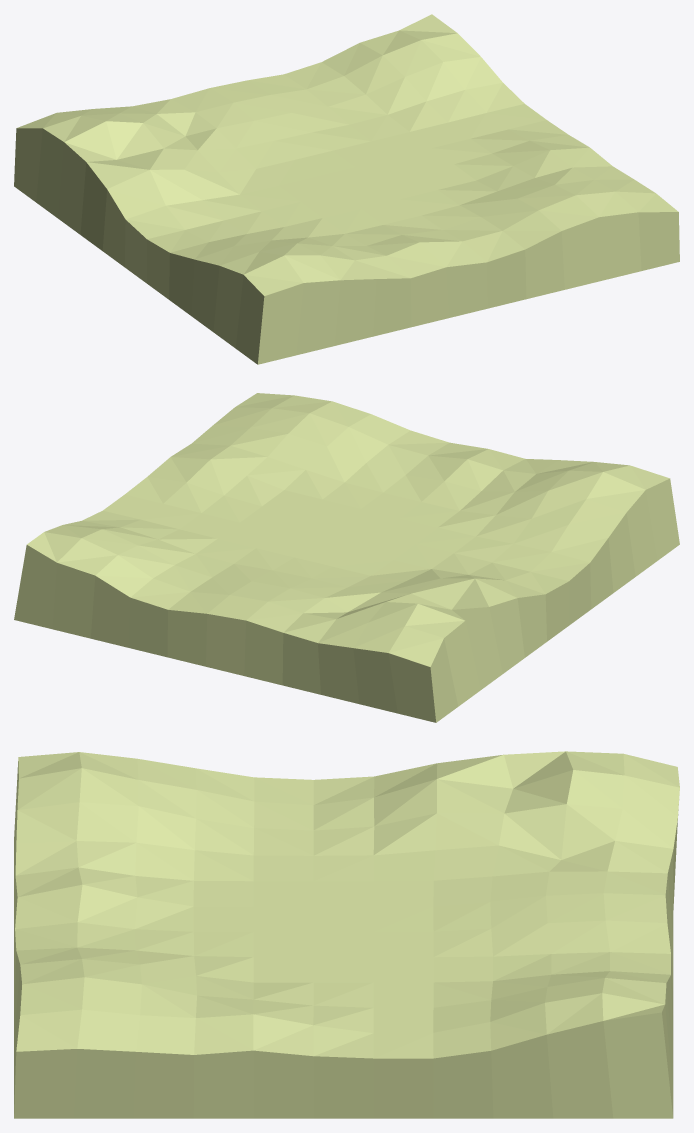
The model's file is Ground_Pond.fbx.
3 views of the same model, one above another, from view 1: azimuth 30°, elevation 25°; view 2: azimuth 150°, elevation 25°; view 3: azimuth 270°, elevation 25° (orthographic). The views are drawn at different scales.
Visible parts, largest first — view 1: Plane; view 2: Plane; view 3: Plane.
Part boxes in pixels (box(x1,y1,x2,y2)): Plane: box(14, 14, 679, 364); Plane: box(14, 393, 679, 722); Plane: box(14, 751, 679, 1118).
Size of the model in its own units: 2312 by 412 by 2336.
